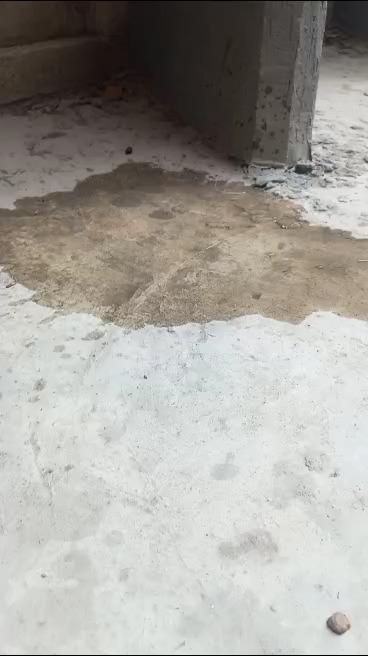water accumulation: (0, 160, 368, 324)
